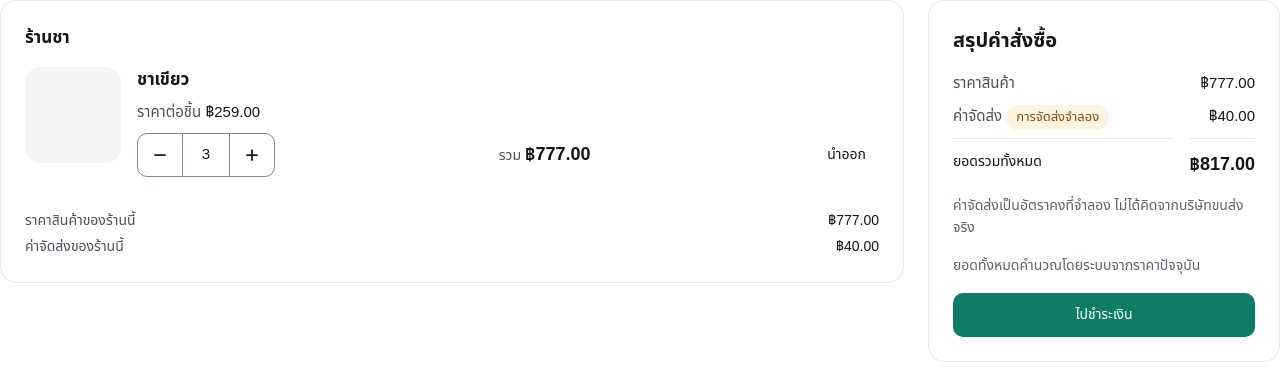
Test case: CartView › changes a quantity through the endpoint, confirms, and refreshes
Step 1. Click the button named "เพิ่มจำนวน" → (252, 155), box [230, 134, 274, 176]
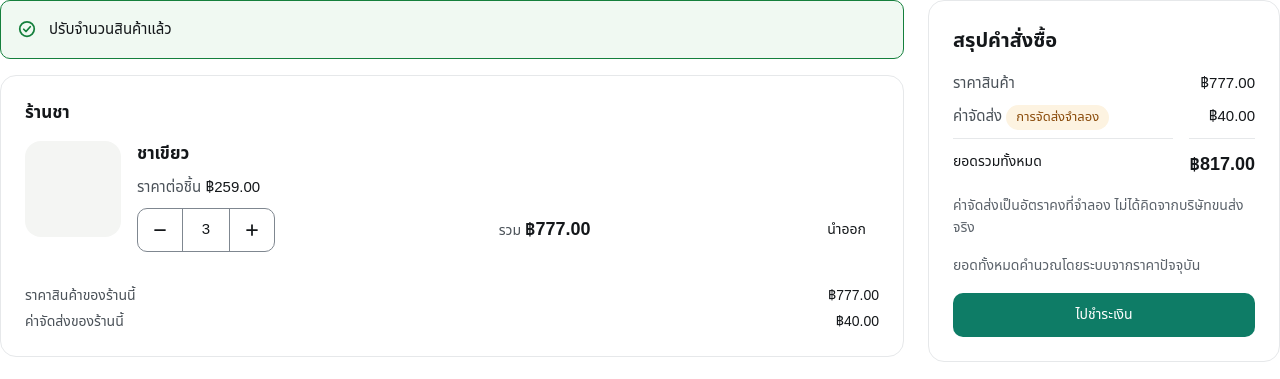
Check: the text "ปรับจำนวนสินค้าแล้ว" is shown, box [49, 20, 172, 37]
